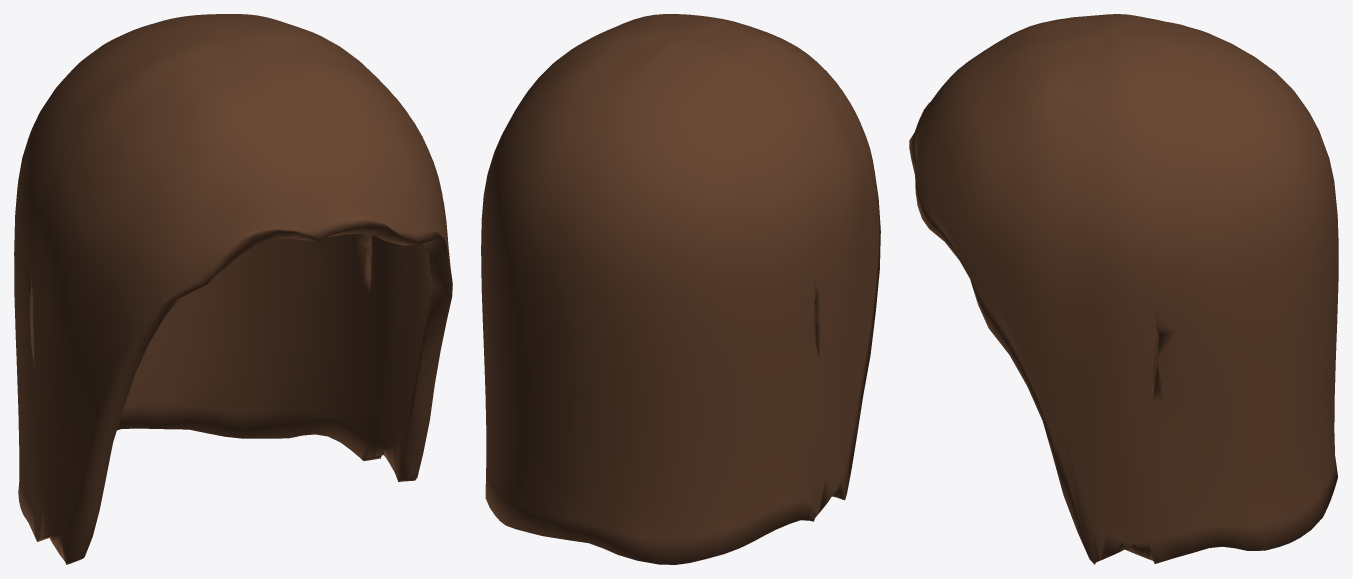
Rendered from 4HT-masculino.glb.
3 renders of one model, left to right at view 1: azimuth 30°, elevation 25°; view 2: azimuth 150°, elevation 25°; view 3: azimuth 270°, elevation 25°, orthographic. The views are drawn at different scales.
Visible parts, largest first — view 1: sculpted-scalp; view 2: sculpted-scalp; view 3: sculpted-scalp.
Boxes of the visible parts, left/top/right/bottom form: sculpted-scalp: left=14, top=14, right=452, bottom=564; sculpted-scalp: left=481, top=14, right=880, bottom=564; sculpted-scalp: left=909, top=14, right=1338, bottom=564.
Size of the model in its own units: 0.0304 by 0.039 by 0.0331.
